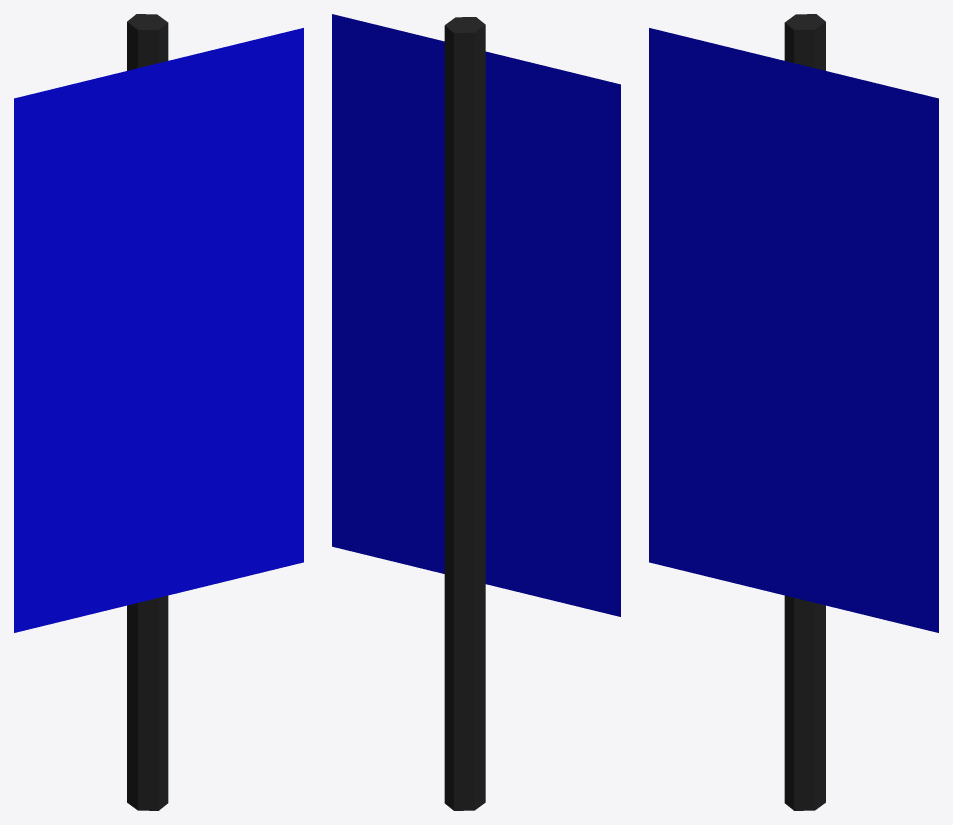
The model's file is blue_flag.fbx.
The picture shows the model from 3 angles, left to right: view 1: azimuth 30°, elevation 25°; view 2: azimuth 150°, elevation 25°; view 3: azimuth 330°, elevation 25°; orthographic projection.
Parts seen in each view (by area): view 1: Plane, Cylinder; view 2: Plane, Cylinder; view 3: Plane, Cylinder.
Boxes of the visible parts, x1,y1,x2,y2 form: Plane: (14, 28, 303, 632); Cylinder: (127, 14, 168, 810); Plane: (332, 14, 620, 616); Cylinder: (444, 17, 485, 810); Plane: (649, 28, 938, 632); Cylinder: (784, 14, 825, 810).
Size of the model in its own units: 97.01 by 250 by 13.03.
